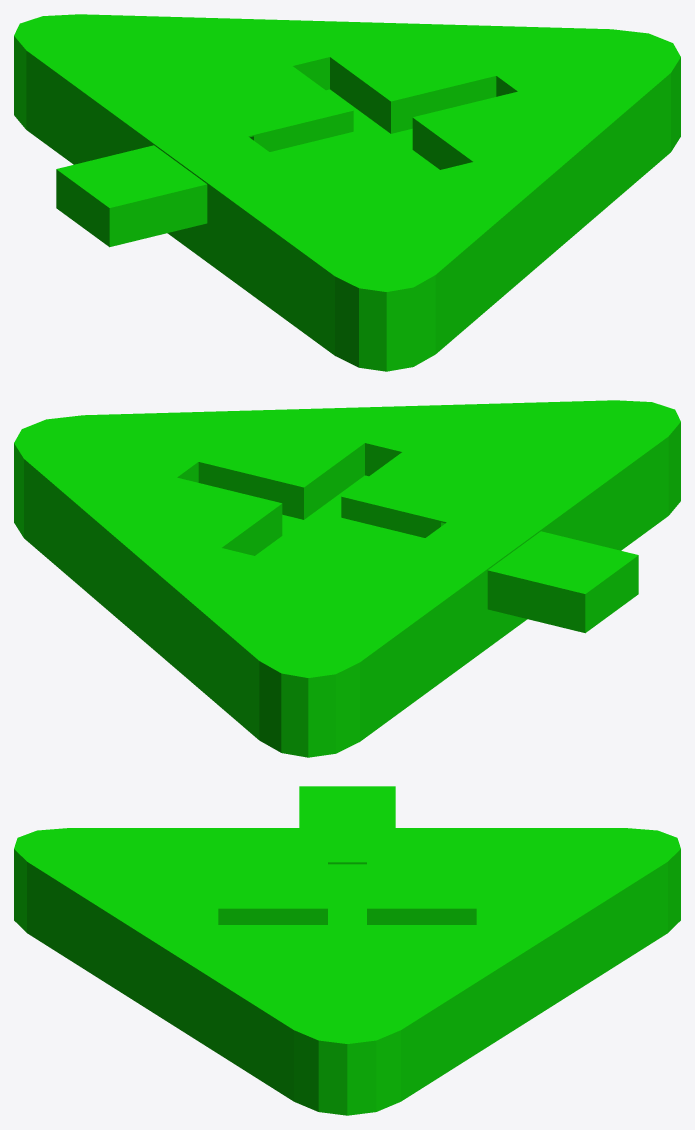
Rendered from add_button.gltf.
3 views of the same model, one above another, from view 1: azimuth 30°, elevation 25°; view 2: azimuth 150°, elevation 25°; view 3: azimuth 270°, elevation 25° (orthographic). The views are drawn at different scales.
Parts seen in each view (by area): view 1: add_button; view 2: add_button; view 3: add_button.
Boxes of the visible parts, x1,y1,x2,y2 form: add_button: (14, 14, 680, 371); add_button: (14, 400, 680, 757); add_button: (14, 786, 680, 1115).
Size of the model in its own units: 0.4995 by 0.0643 by 0.5434.
